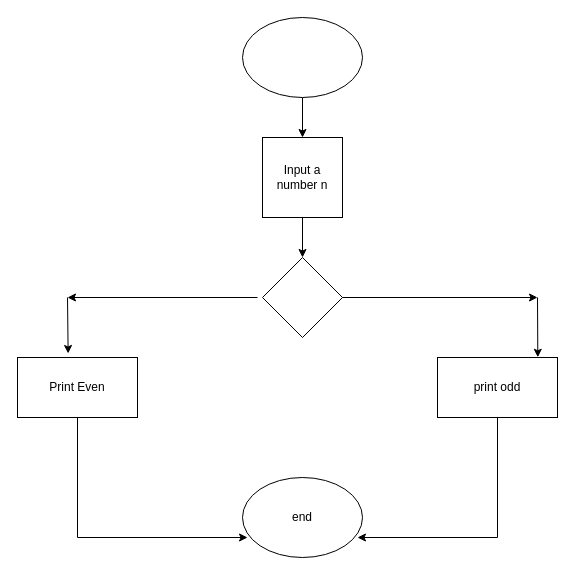
The diagram is 575 pixels wide and 575 high, and some of its shapes have lost their labels. The centre of each missing label's shape, as x and y in pixels:
"n%2==0" belongs at point (302, 297).
"Start" belongs at point (302, 57).
